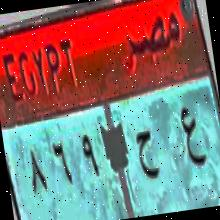6: (50, 136, 76, 198)
7aa: (131, 122, 164, 187)
8: (26, 146, 51, 204)
9: (78, 132, 102, 186)
ain: (177, 98, 209, 175)
